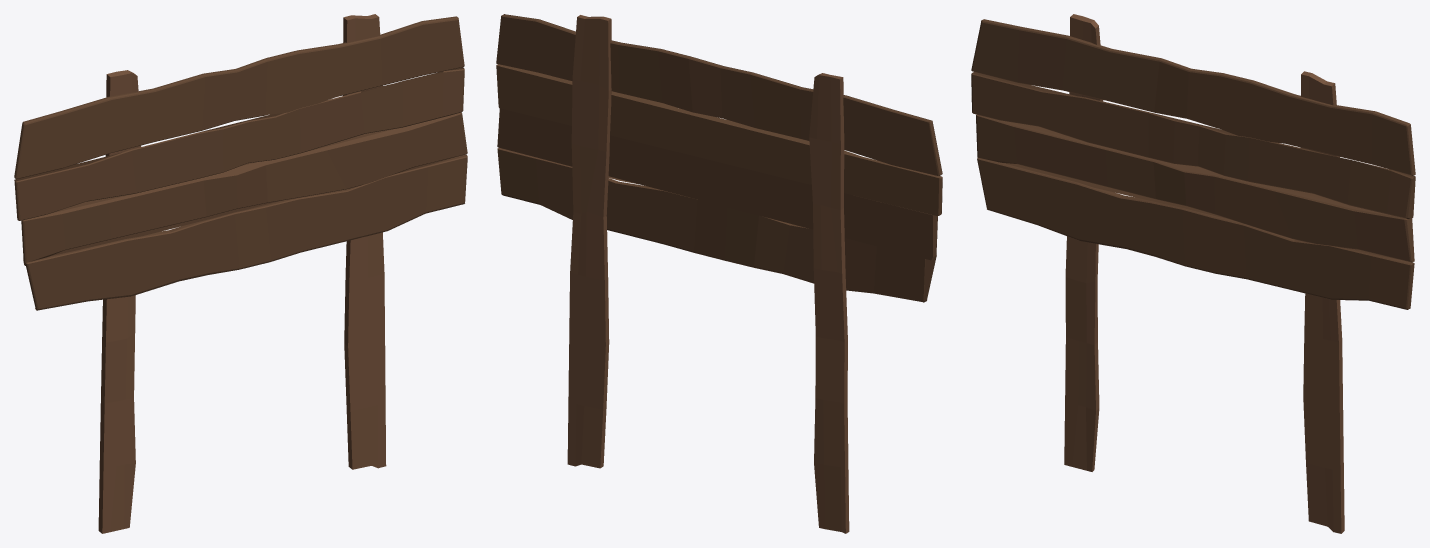
File: double_road_sign.fbx
3 renders of one model, left to right at view 1: azimuth 30°, elevation 25°; view 2: azimuth 150°, elevation 25°; view 3: azimuth 330°, elevation 25°, orthographic.
Visible parts, largest first — view 1: Plane.001; view 2: Plane.001; view 3: Plane.001.
Part boxes in pixels (bbox=[...]): Plane.001: bbox=[14, 14, 467, 533]; Plane.001: bbox=[496, 14, 942, 533]; Plane.001: bbox=[971, 14, 1415, 533].
Bounding box in the file's own units: 1854 × 1802 × 81.19.
